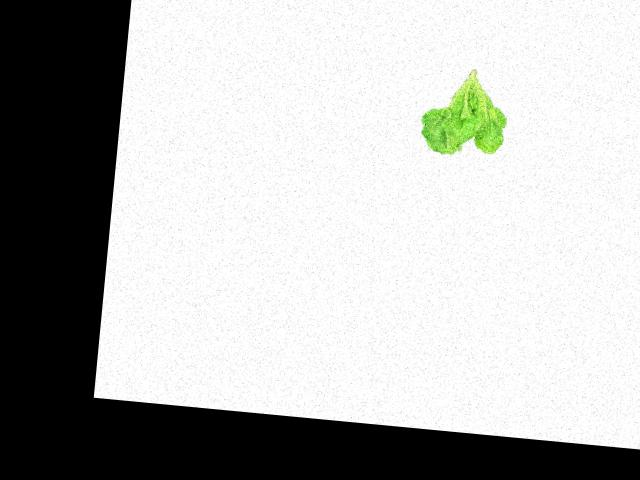lettuce: (413, 62, 514, 165)
